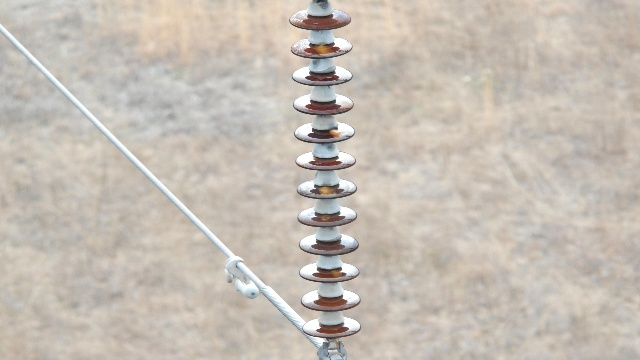insulator_unspecified: (289, 10, 362, 338)
pollution_flashover_local: (311, 42, 338, 58), (319, 183, 338, 198), (330, 125, 347, 140), (329, 267, 343, 279), (321, 213, 332, 221)
